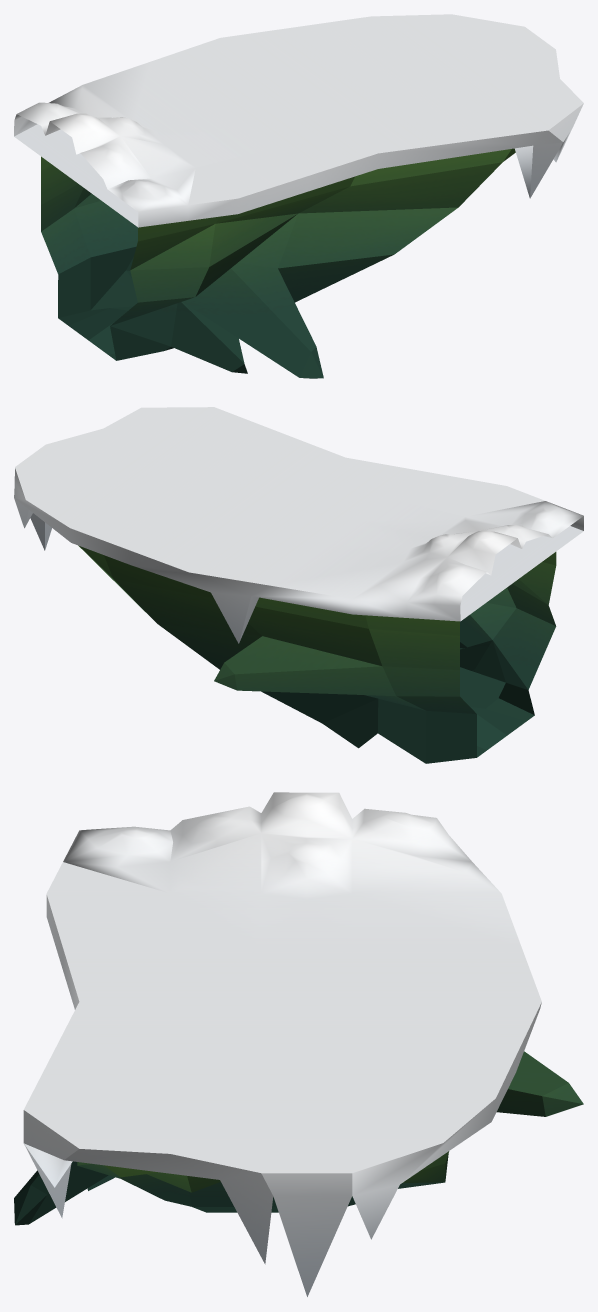
The model's file is MOD_PlatformV4_2.fbx.
3 renders of one model, top to bottom at view 1: azimuth 30°, elevation 25°; view 2: azimuth 150°, elevation 25°; view 3: azimuth 270°, elevation 25°, orthographic. The views are drawn at different scales.
Visible parts, largest first — view 1: MOD_ICE_Platform2, MOD_Platform2; view 2: MOD_ICE_Platform2, MOD_Platform2; view 3: MOD_ICE_Platform2, MOD_Platform2.
Boxes of the visible parts, x1,y1,x2,y2 form: MOD_ICE_Platform2: [14, 14, 583, 227]; MOD_Platform2: [41, 148, 515, 378]; MOD_ICE_Platform2: [14, 407, 583, 643]; MOD_Platform2: [78, 545, 556, 763]; MOD_ICE_Platform2: [23, 792, 541, 1296]; MOD_Platform2: [14, 1051, 583, 1225].
Bounding box in the file's own units: 2.86 × 1.29 × 2.01.
Materials: 2 (2 with a texture image).
